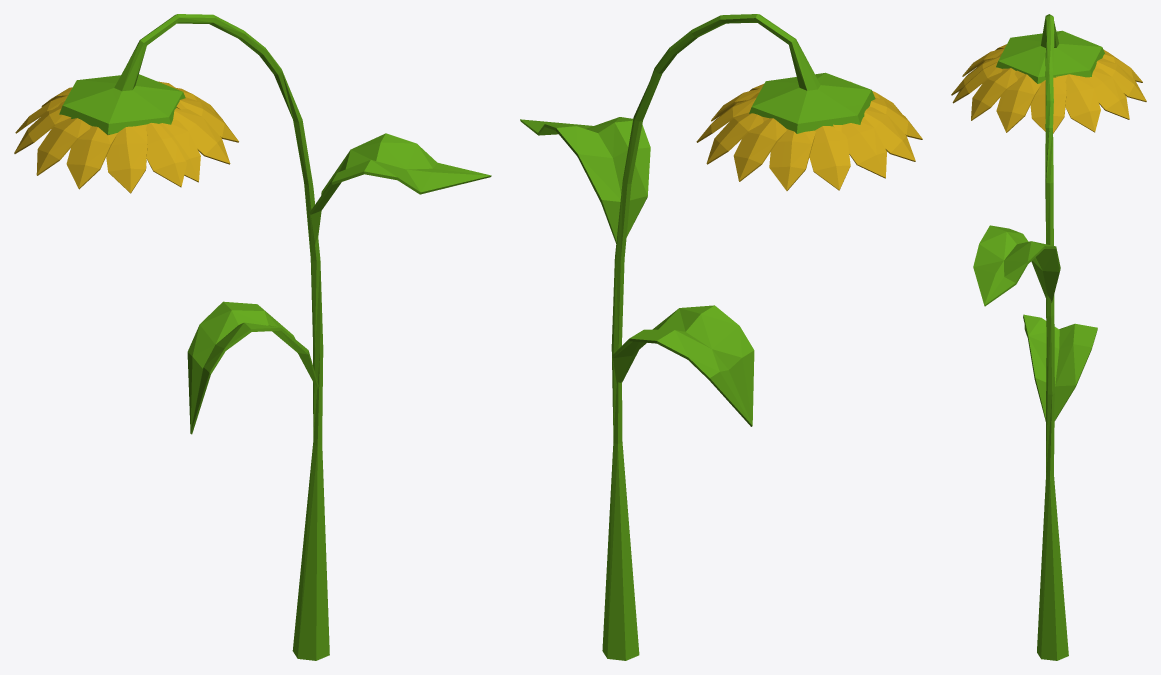
File: 050 Sunflower_2.FBX
The picture shows the model from 3 angles, left to right: view 1: azimuth 30°, elevation 25°; view 2: azimuth 150°, elevation 25°; view 3: azimuth 270°, elevation 25°; orthographic projection. The views are drawn at different scales.
Parts seen in each view (by area): view 1: sunflowe_broken149; view 2: sunflowe_broken149; view 3: sunflowe_broken149.
Part boxes in pixels (x1=…): sunflowe_broken149: x1=14, y1=14, x2=491, y2=660; sunflowe_broken149: x1=520, y1=14, x2=922, y2=660; sunflowe_broken149: x1=951, y1=14, x2=1146, y2=660.
Size of the model in its own units: 72.69 by 110 by 33.48.
